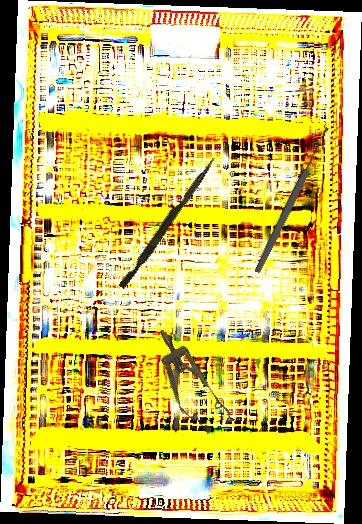Pusher: (118, 153, 217, 292)
Speculum: (142, 319, 236, 441)
Surgical Spoon: (252, 125, 333, 275)
